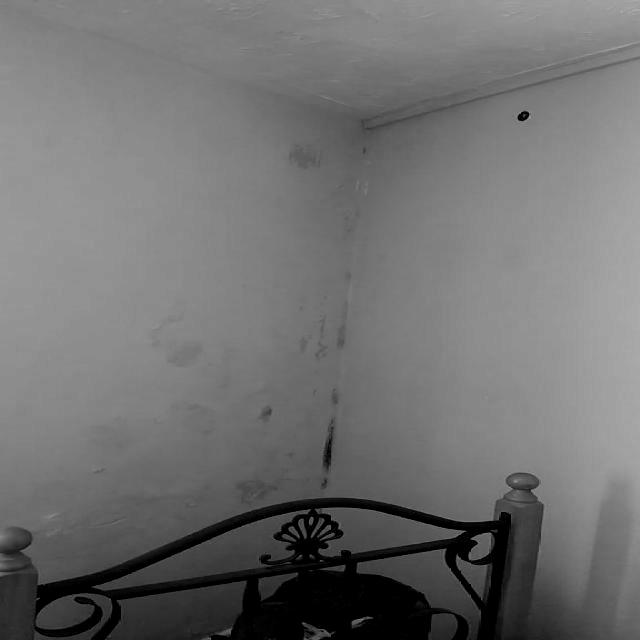stain marks: (82, 375, 370, 513), (282, 195, 385, 363), (128, 293, 234, 382), (265, 112, 372, 181)
